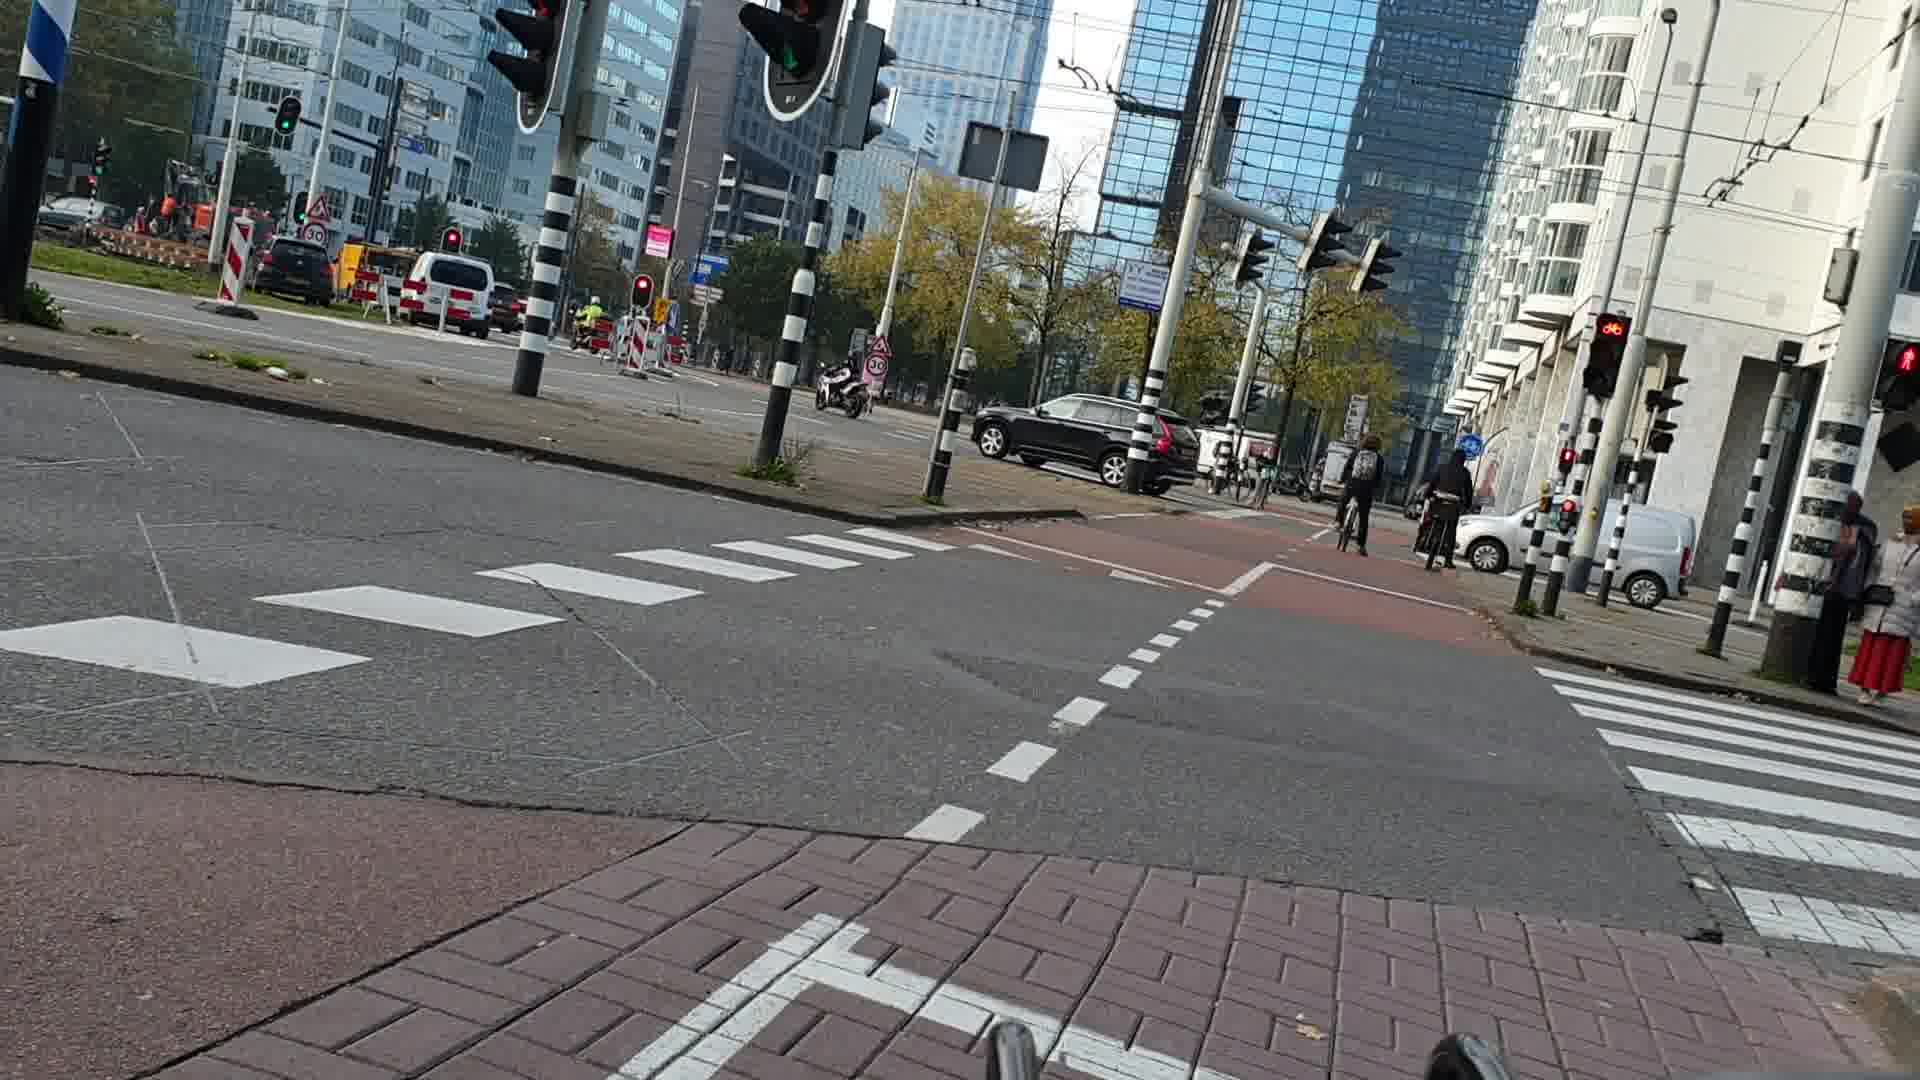car: (1450, 479, 1694, 617), (970, 391, 1202, 487)
